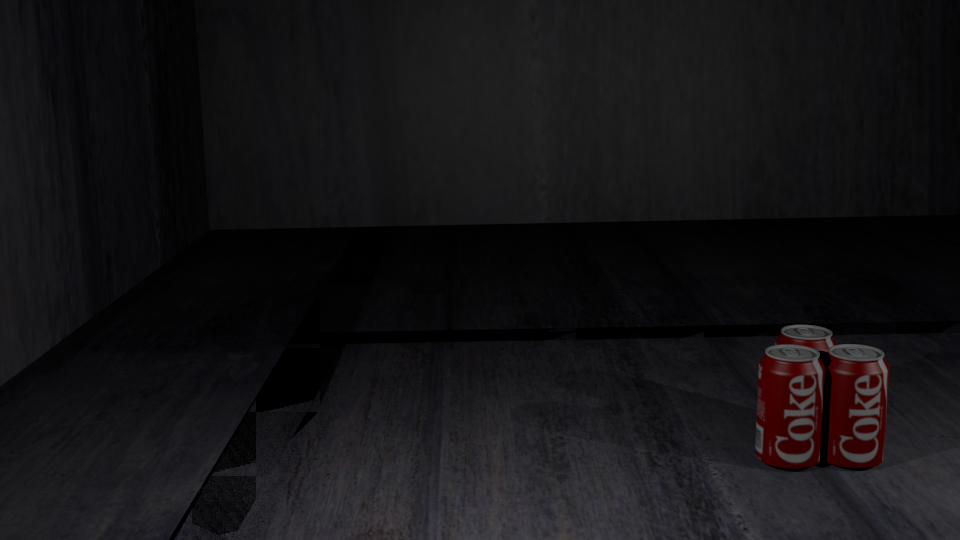cola_can: (757, 345, 824, 465), (821, 344, 888, 464), (777, 325, 836, 438)
